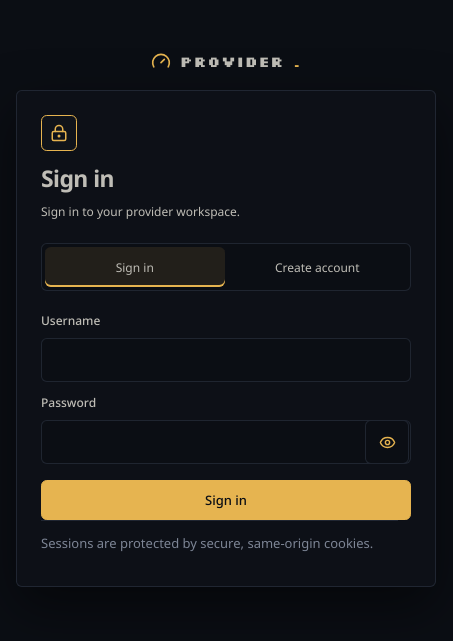
Test: local auth › keeps account creation unavailable until an invite is present
The image size is (453, 641).
Step 1. Click the button with aria-label "Switch to account creation" → (317, 267), box [228,247,407,287]
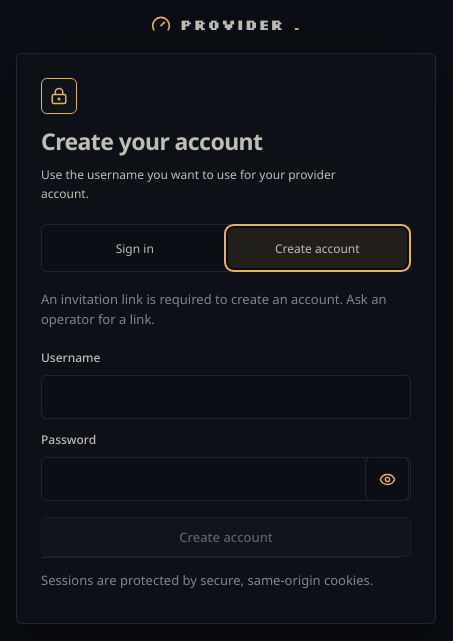
Expected: the text "invitation link is required" is shown, [41,290,386,328]
Expected: the button "Create account" below "Password" is disabled, [41,517,411,557]
